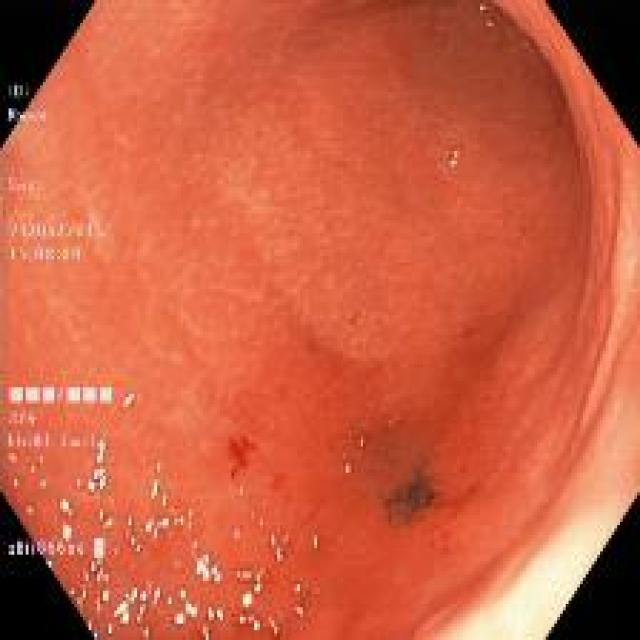ulcerative-colitis-grade-1: (2, 3, 588, 640)
